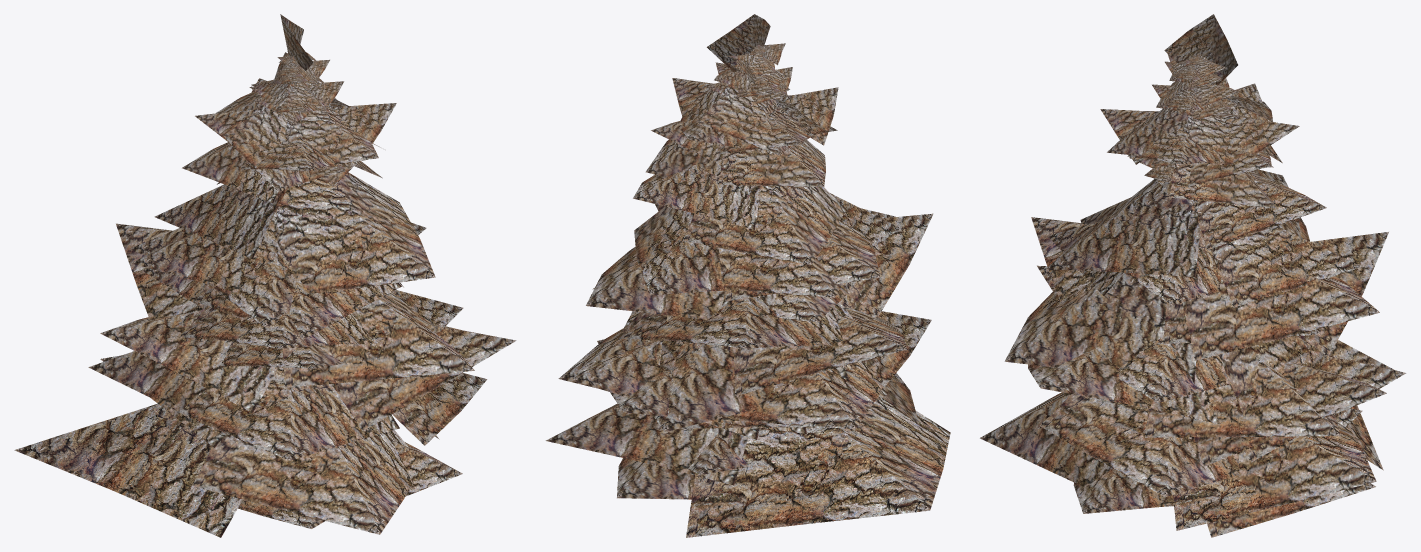
The model's file is tree4.fbx.
The picture shows the model from 3 angles, left to right: view 1: azimuth 30°, elevation 25°; view 2: azimuth 150°, elevation 25°; view 3: azimuth 270°, elevation 25°; orthographic projection.
Parts seen in each view (by area): view 1: tree pine joined; view 2: tree pine joined; view 3: tree pine joined.
Boxes of the visible parts, x1,y1,x2,y2 form: tree pine joined: [14, 14, 516, 537]; tree pine joined: [545, 14, 950, 537]; tree pine joined: [980, 14, 1406, 537].
Bounding box in the file's own units: 439 × 483 × 400.
Materials: 2 (2 with a texture image).
